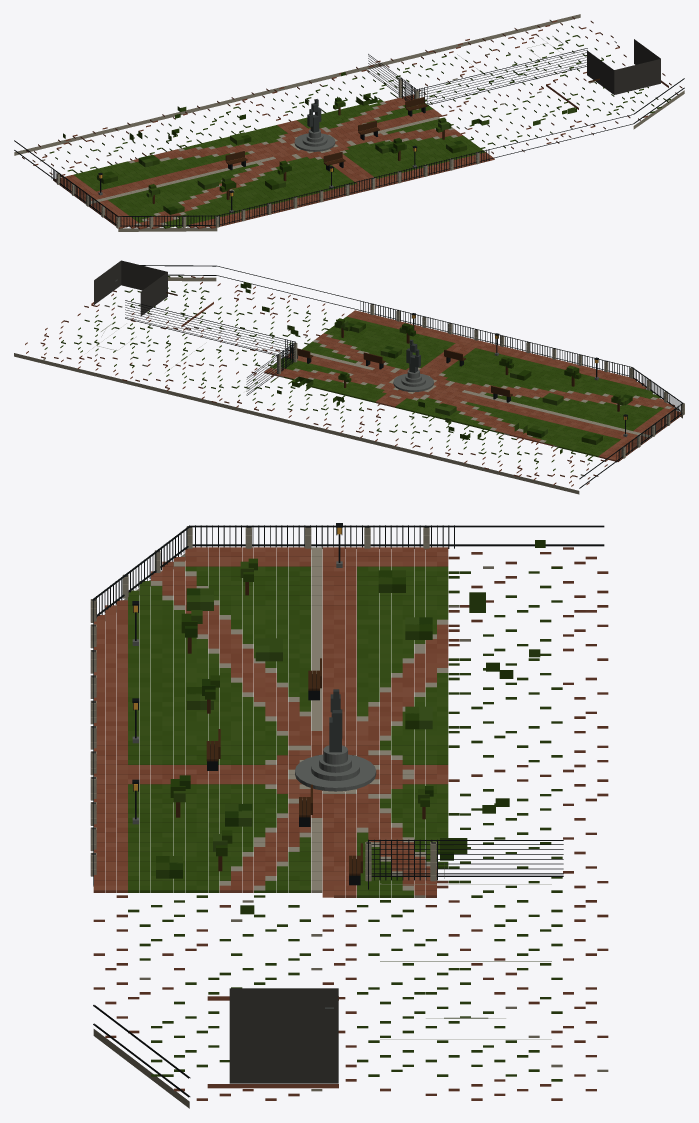
Rendered from SM_StreetFrontage_088.fbx.
3 views of the same model, one above another, from view 1: azimuth 30°, elevation 25°; view 2: azimuth 150°, elevation 25°; view 3: azimuth 270°, elevation 25° (orthographic). The views are drawn at different scales.
Visible parts, largest first — view 1: SM_StreetFrontage_088; view 2: SM_StreetFrontage_088; view 3: SM_StreetFrontage_088.
Boxes of the visible parts, x1,y1,x2,y2 form: SM_StreetFrontage_088: (14, 14, 684, 231); SM_StreetFrontage_088: (14, 260, 684, 494); SM_StreetFrontage_088: (90, 523, 608, 1108).
Bounding box in the file's own units: 79.83 × 31.59 × 6.45.
